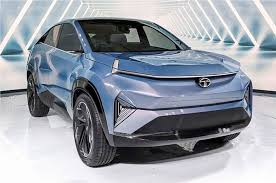Tata Nexon: (21, 17, 254, 169)
